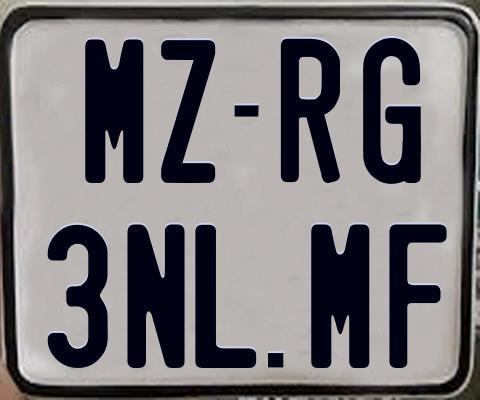3: (47, 223, 108, 372)
F: (389, 221, 452, 370)
G: (360, 37, 424, 189)
L: (194, 222, 258, 370)
M: (310, 223, 370, 370), (83, 36, 144, 180)
N: (124, 221, 188, 371)
R: (280, 37, 340, 187)
Z: (160, 38, 217, 182)
